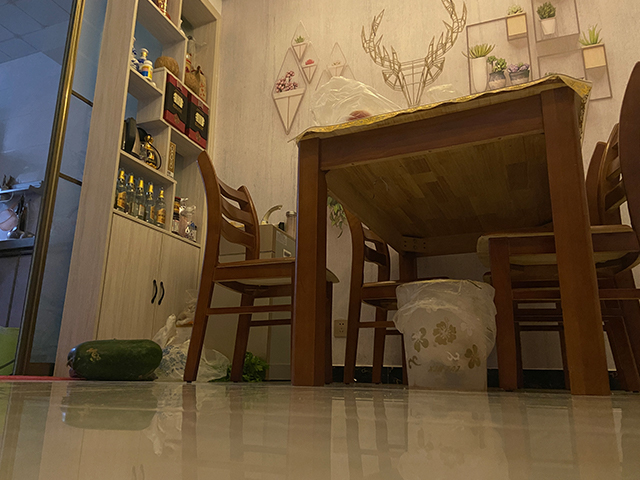cabinet: (75, 206, 216, 375)
carpet: (1, 373, 72, 381)
stool: (476, 61, 640, 394), (182, 149, 297, 385), (342, 204, 408, 388)
table: (289, 73, 612, 397)
trashcan: (395, 279, 497, 394)
